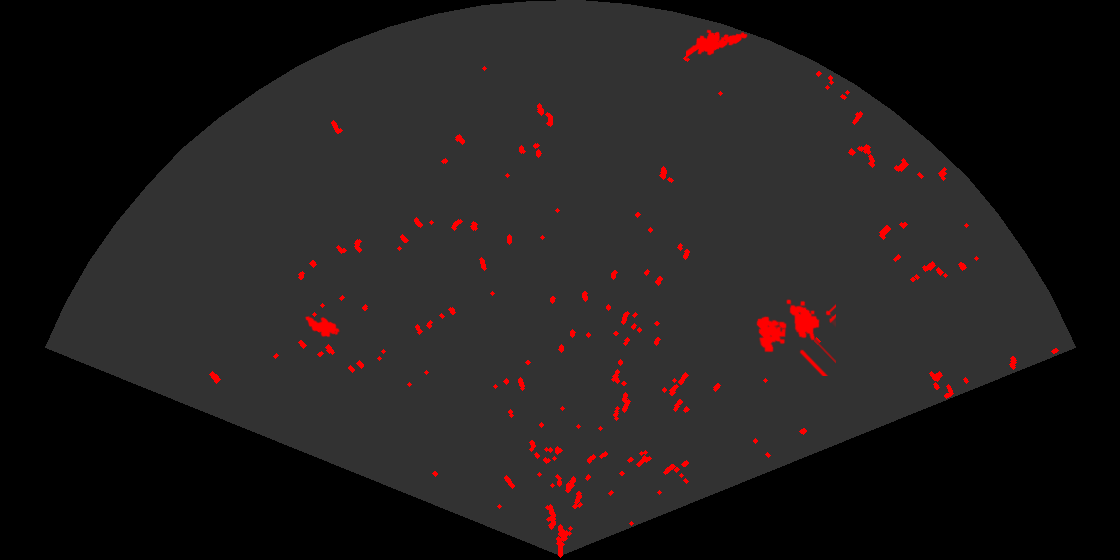AUV: (303, 314, 341, 339)
cage: (755, 298, 836, 376)
frogman: (686, 28, 749, 59)
